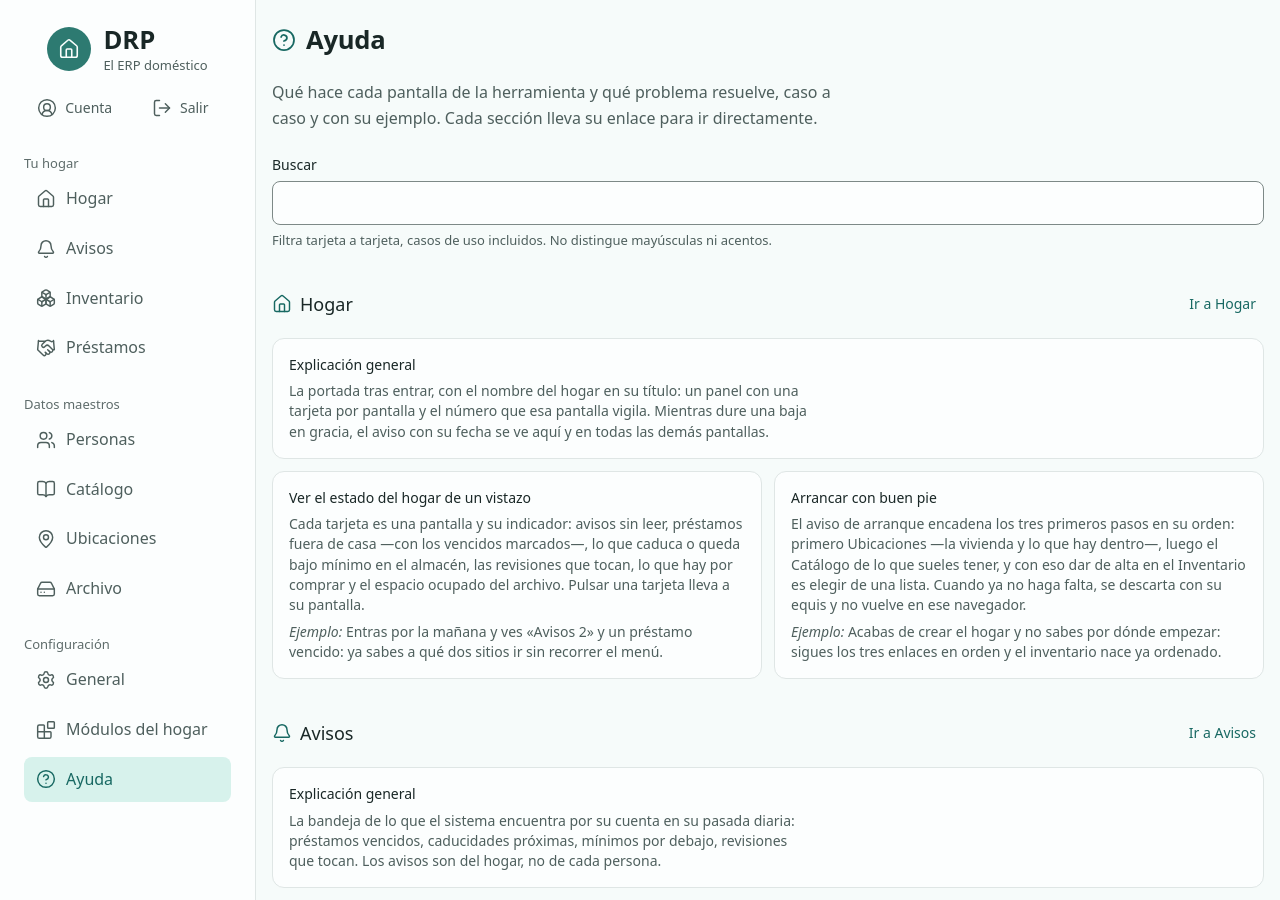
Test: la guía de la herramienta › cuando nada coincide lo dice, en lugar de dejar la lista vacía
The width and height of the screenshot is (1280, 900).
Expected: the heading "Ayuda" is shown, [306,24,385,56]
Type "zzzz" into the search field labelled "Buscar".
click(768, 204); type("zzzz")  # box [272,182,1264,226]
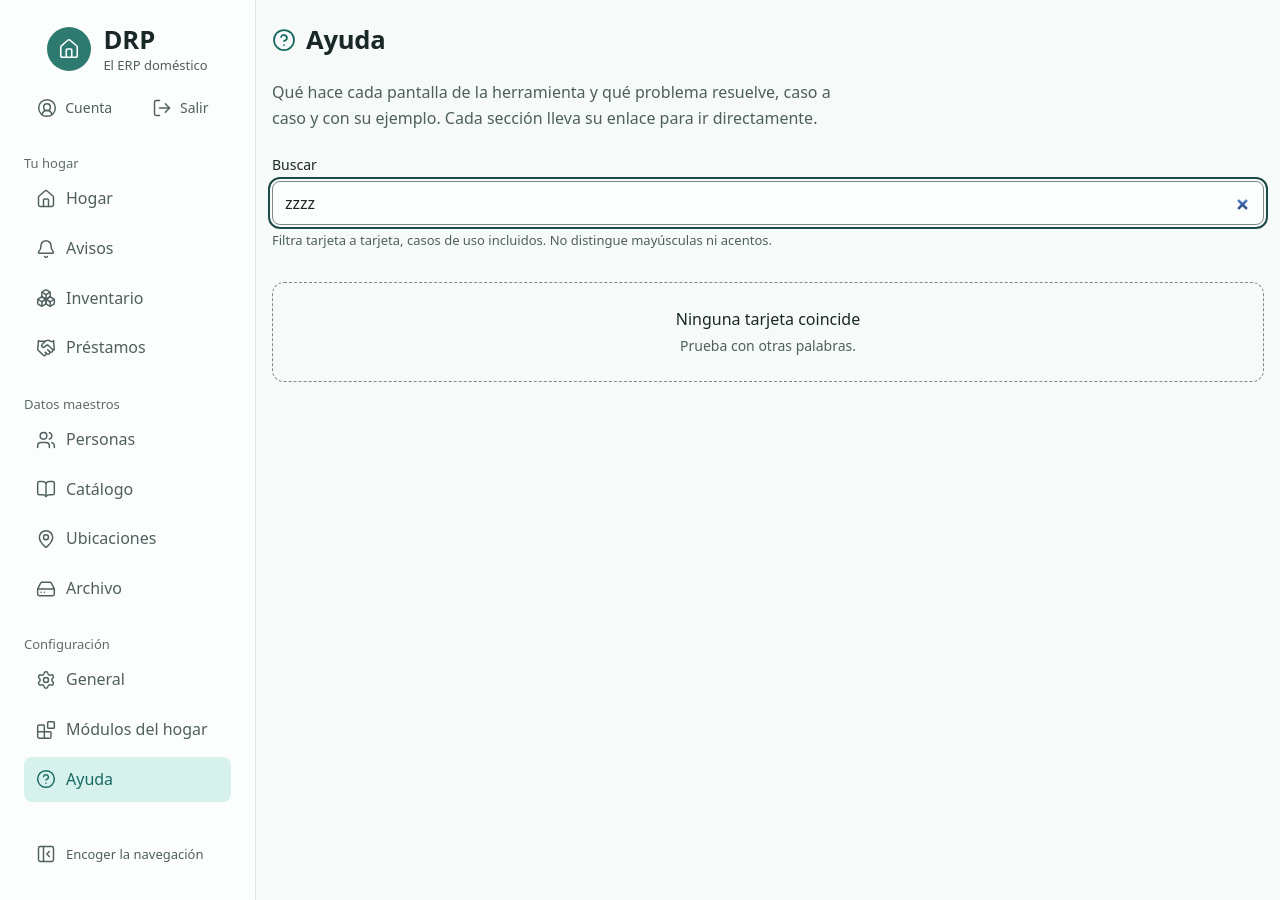
Expected: the text "Ninguna tarjeta coincide" is shown, [676,308,860,330]
